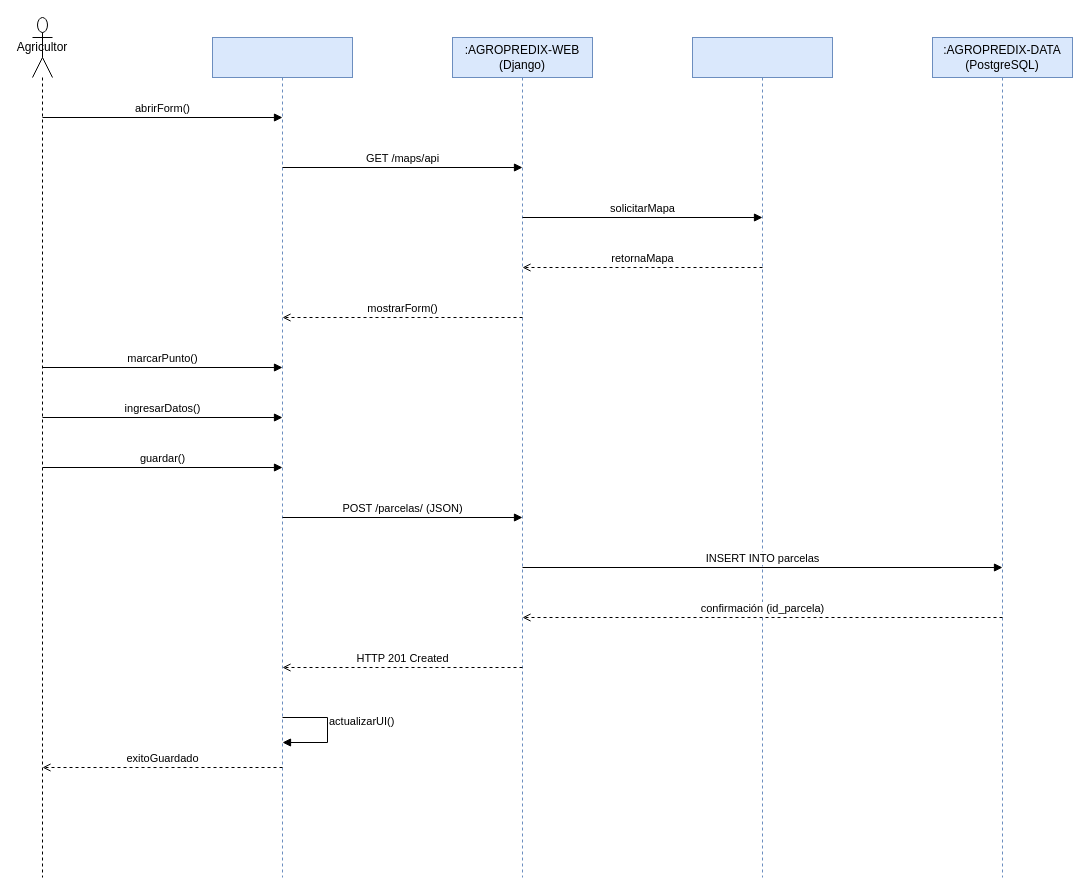
Image size: 1090x895. Some labels were removed from this diagram. Each missing label, with the box of its shape:
:APIs_Externas (Google Maps): (692, 36, 832, 878)
:PWA_Cliente: (212, 36, 352, 878)
